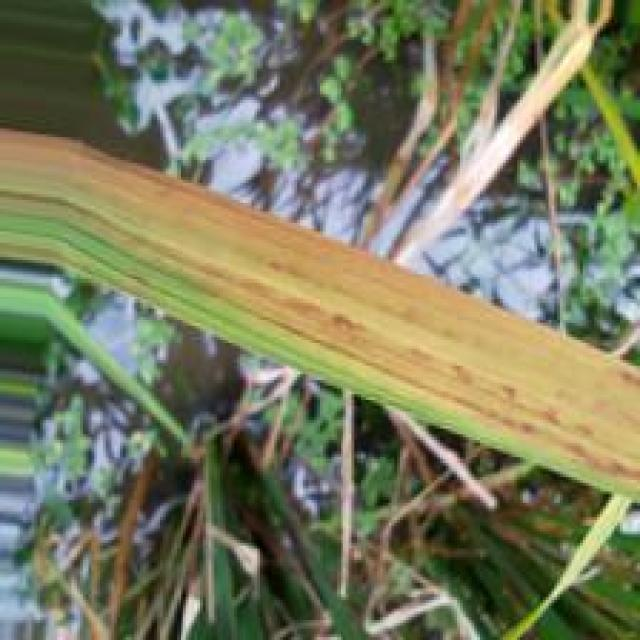Narrow_Brown_Leaf_Spot: (0, 123, 640, 484)
